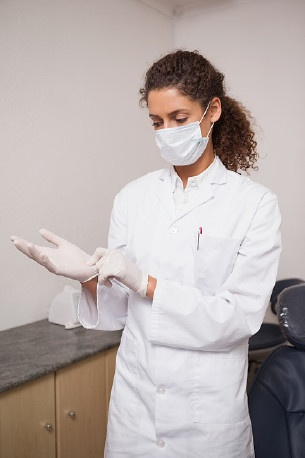Mask: (145, 104, 207, 166)
